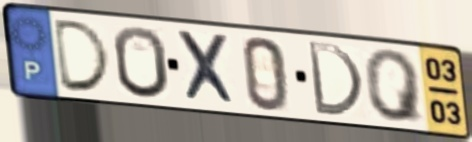0: (240, 34, 290, 113)
D: (304, 39, 367, 120), (52, 17, 116, 95)
O: (110, 23, 172, 101)
Q: (361, 47, 427, 125)
X: (172, 27, 242, 109)
